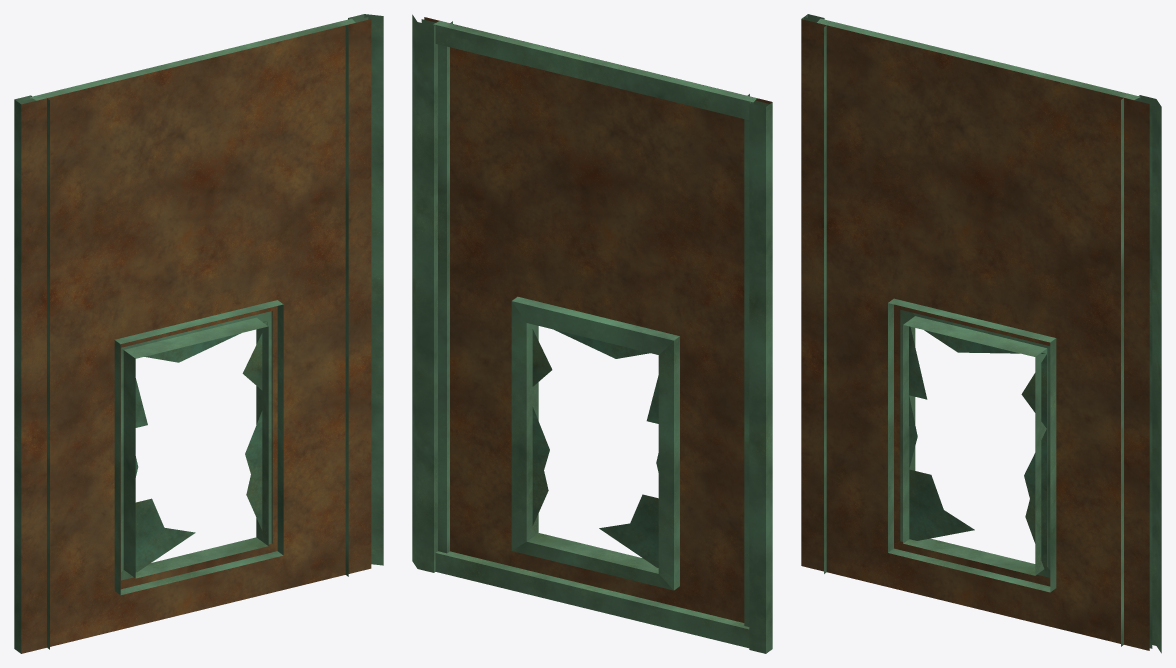
The model's file is Wall2_UpperDeck_Corner2.FBX.
The picture shows the model from 3 angles, left to right: view 1: azimuth 30°, elevation 25°; view 2: azimuth 150°, elevation 25°; view 3: azimuth 330°, elevation 25°; orthographic projection.
Parts seen in each view (by area): view 1: UpperDeck_Cornerpiece002; view 2: UpperDeck_Cornerpiece002; view 3: UpperDeck_Cornerpiece002.
Part boxes in pixels (x1=…): UpperDeck_Cornerpiece002: x1=14, y1=14, x2=383, y2=653; UpperDeck_Cornerpiece002: x1=412, y1=14, x2=772, y2=653; UpperDeck_Cornerpiece002: x1=801, y1=14, x2=1161, y2=653.
Size of the model in its own units: 207 by 300 by 12.84.
